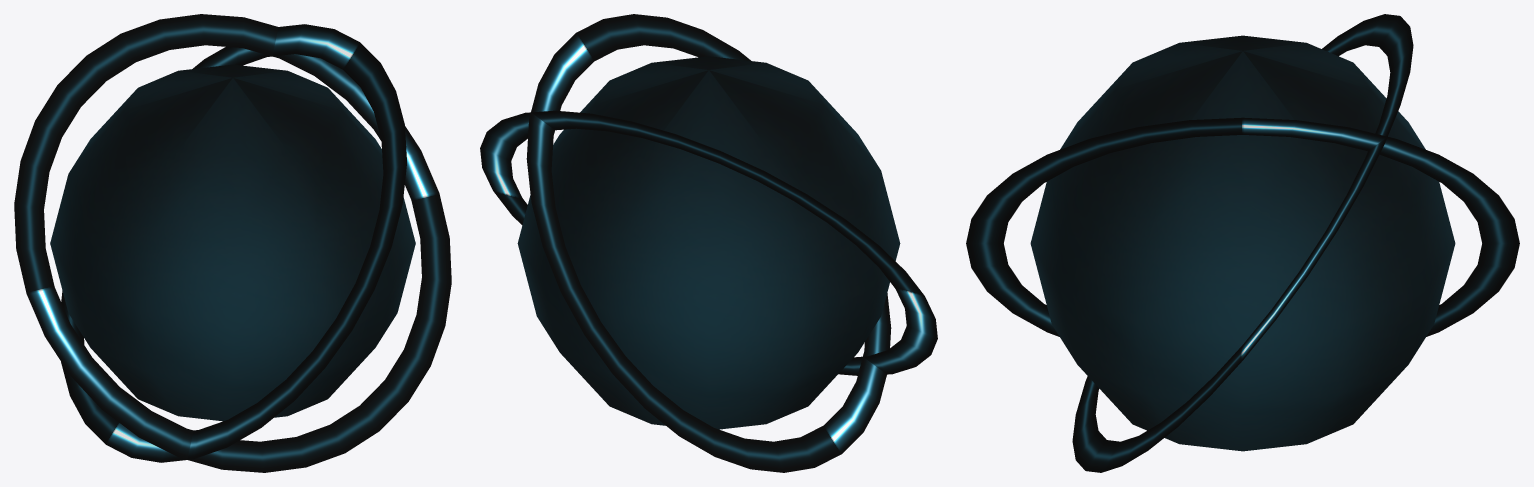
Rendered from shard_sky_v3b_2x.glb.
The picture shows the model from 3 angles, left to right: view 1: azimuth 30°, elevation 25°; view 2: azimuth 150°, elevation 25°; view 3: azimuth 270°, elevation 25°; orthographic projection. The views are drawn at different scales.
Parts seen in each view (by area): view 1: gem; view 2: gem; view 3: gem.
Part boxes in pixels (x1,y1,x2,y2): gem: (14,14,451,472); gem: (480,14,937,472); gem: (966,14,1519,472).
Size of the model in its own units: 3.52 by 2.77 by 3.52.
Materials: 4 (3 with a texture image).
